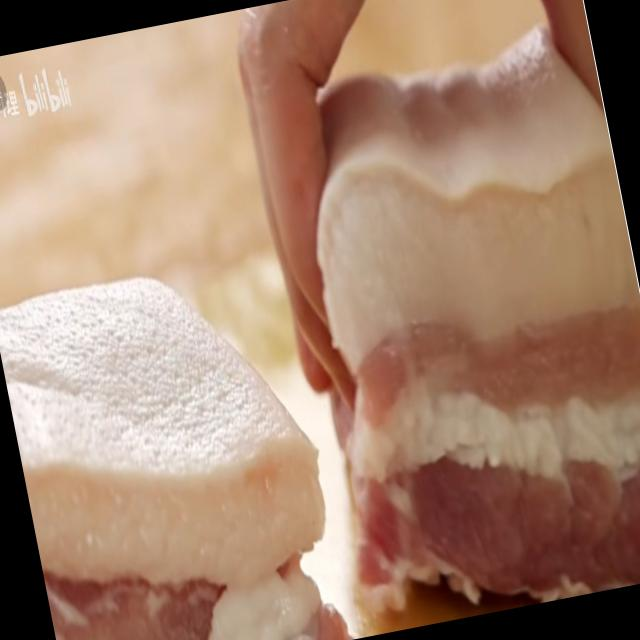--: (285, 37, 640, 632), (0, 251, 356, 640)
